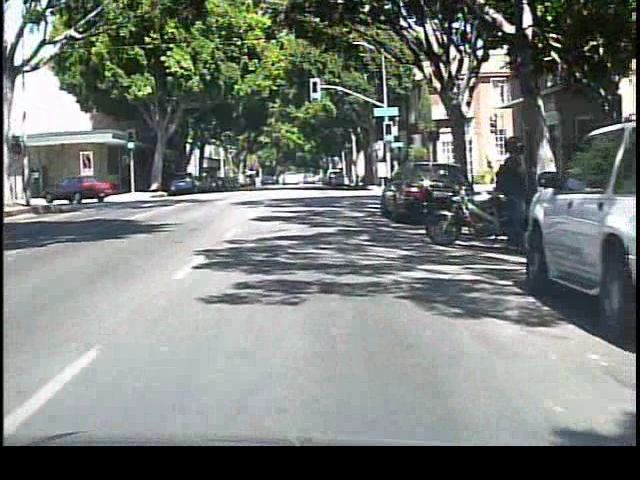person: (489, 130, 534, 259)
